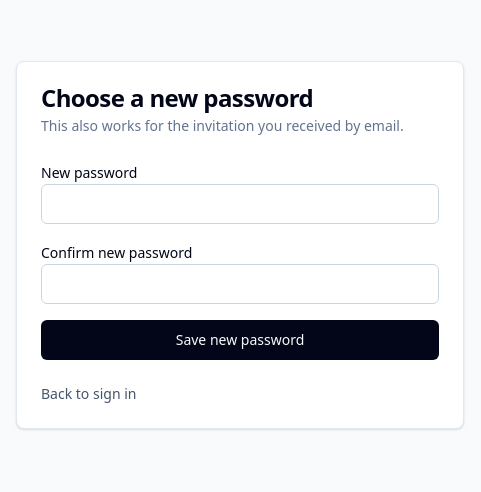
ResetPasswordPage › shows the server reason and a way to get a new link when the link has expired
Type "BrandNewPass1" into the password field labelled "New password" at (240, 204), box 41,184 -> 439,224
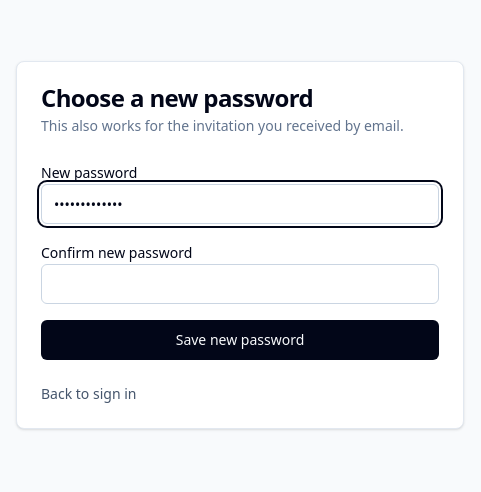
Type "BrandNewPass1" into the password field labelled "Confirm new password" at (240, 284), box 41,264 -> 439,304
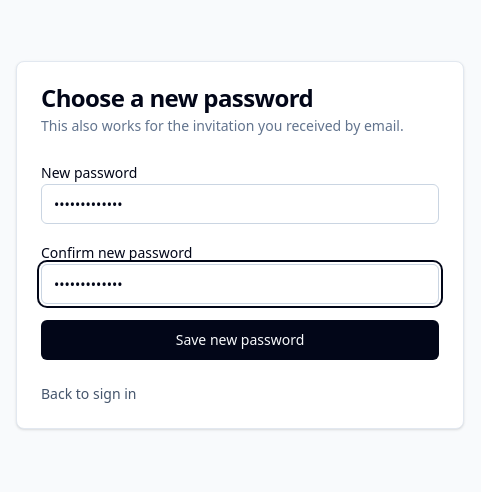
Click the button "Save new password" at (240, 340), box 41,320 -> 439,360
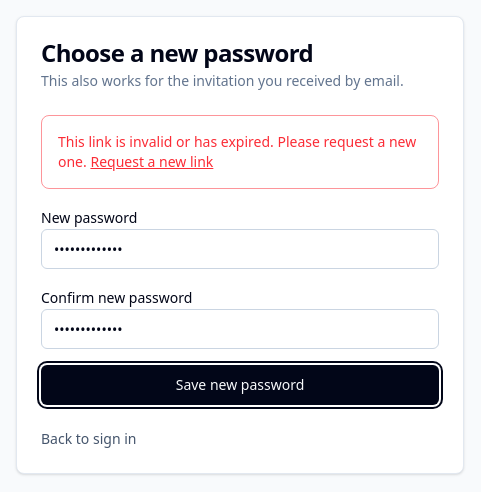
Result: the text "invalid or has expired" is shown at 58,132 -> 416,171
